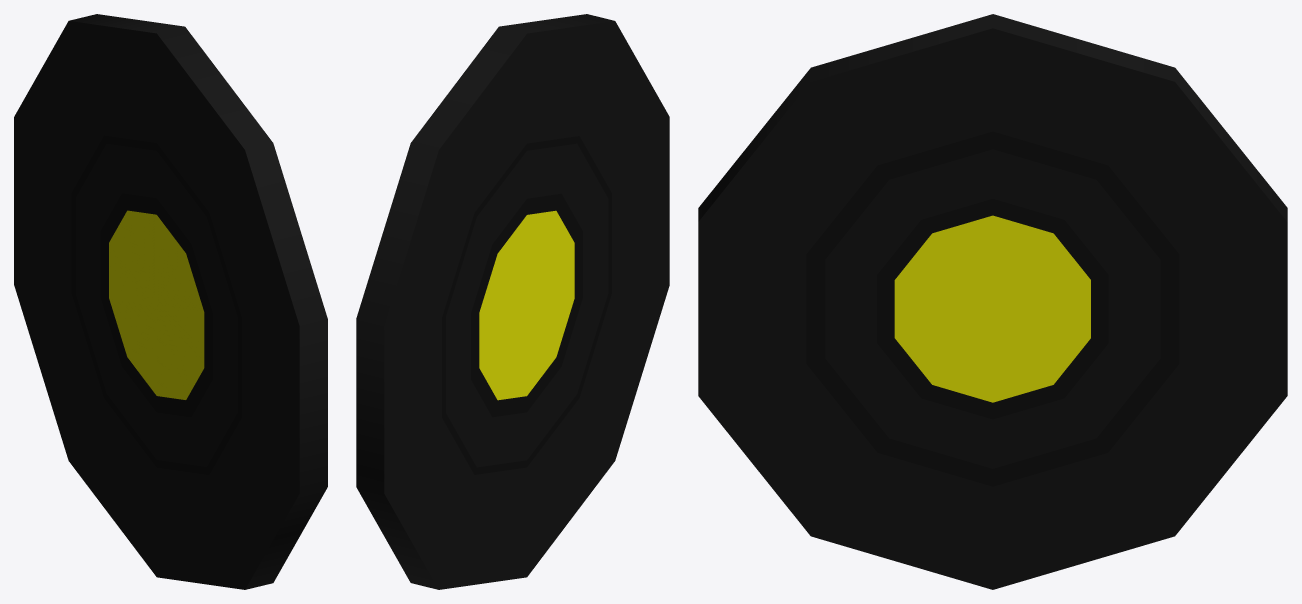
Rendered from Vinyl_Yellow.FBX.
3 views of the same model, side by side, from view 1: azimuth 30°, elevation 25°; view 2: azimuth 150°, elevation 25°; view 3: azimuth 270°, elevation 25° (orthographic). The views are drawn at different scales.
Visible parts, largest first — view 1: Vinyl_Yellow; view 2: Vinyl_Yellow; view 3: Vinyl_Yellow.
Part boxes in pixels (x1,y1,x2,y2): Vinyl_Yellow: [14, 14, 327, 589]; Vinyl_Yellow: [356, 14, 669, 589]; Vinyl_Yellow: [698, 14, 1287, 589].
Bounding box in the file's own units: 4.5 × 82.65 × 78.63.
